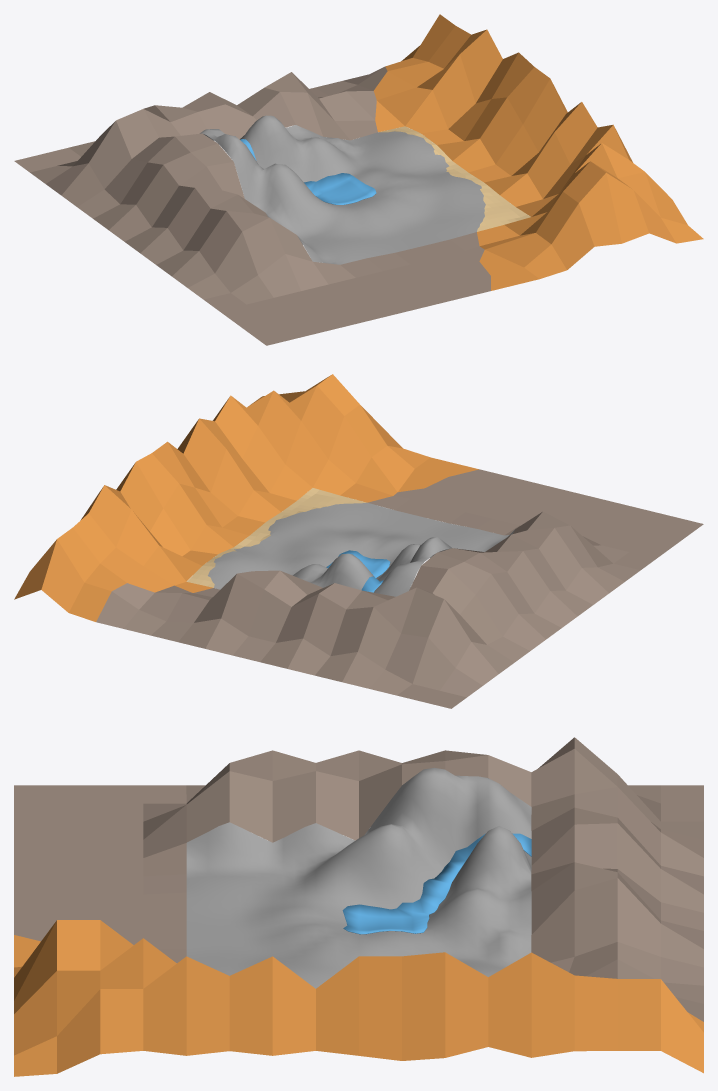
The model's file is terrain.glb.
3 views of the same model, one above another, from view 1: azimuth 30°, elevation 25°; view 2: azimuth 150°, elevation 25°; view 3: azimuth 270°, elevation 25° (orthographic). The views are drawn at different scales.
Parts seen in each view (by area): view 1: blocked_area, land, desert, water; view 2: blocked_area, land, desert, water; view 3: blocked_area, land, water.
Part boxes in pixels (bbox=[...]): blocked_area: bbox=[14, 14, 703, 345]; land: bbox=[200, 115, 485, 264]; desert: bbox=[379, 126, 530, 231]; water: bbox=[240, 139, 376, 204]; blocked_area: bbox=[14, 374, 703, 708]; land: bbox=[208, 502, 515, 596]; desert: bbox=[187, 488, 366, 587]; water: bbox=[326, 550, 390, 592]; blocked_area: bbox=[14, 737, 703, 1076]; land: bbox=[186, 767, 531, 988]; water: bbox=[342, 833, 531, 934].
Size of the model in its own units: 400 by 68.04 by 400.
